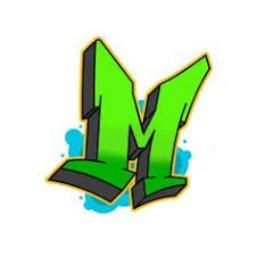m: (42, 35, 214, 213)
